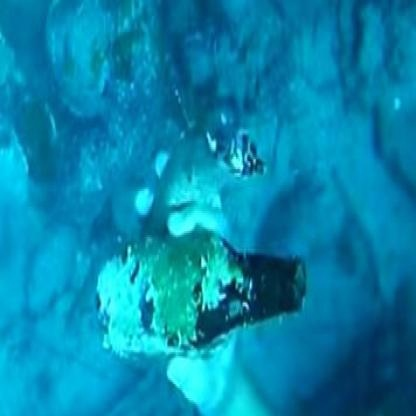gbottle: (92, 243, 317, 342)
